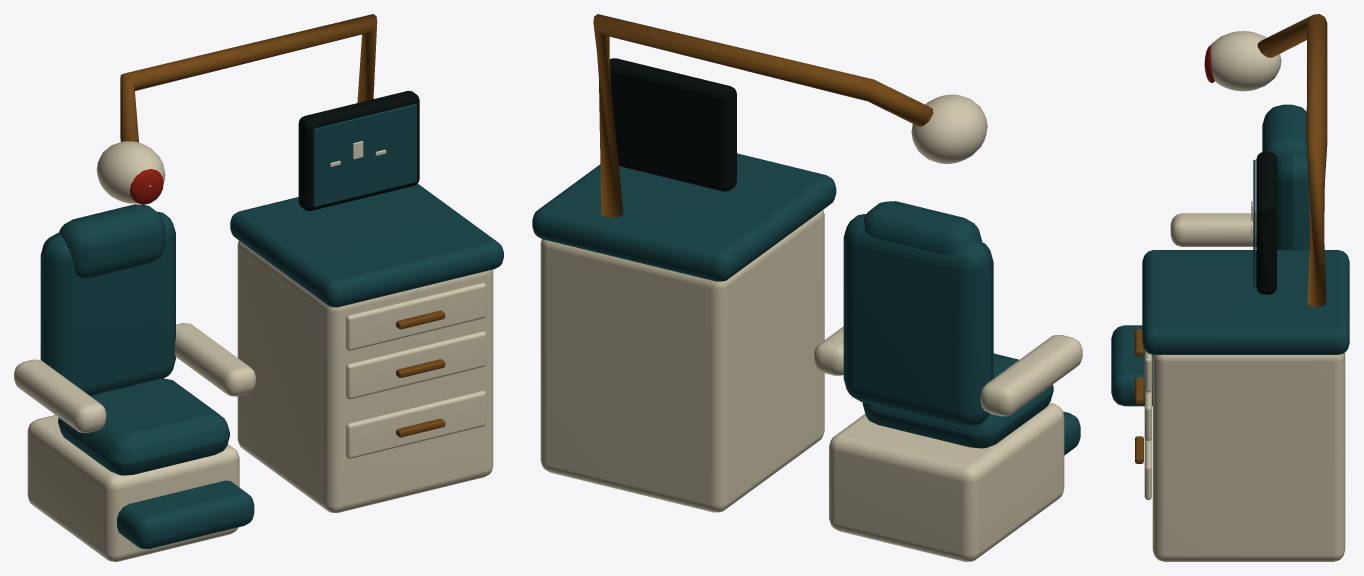
The model's file is diagnosis.glb.
The picture shows the model from 3 angles, left to right: view 1: azimuth 30°, elevation 25°; view 2: azimuth 150°, elevation 25°; view 3: azimuth 270°, elevation 25°; orthographic projection. The views are drawn at different scales.
Visible parts, largest first — view 1: Apparatus; view 2: Apparatus; view 3: Apparatus.
Part boxes in pixels (x1,y1,x2,y2): Apparatus: [14, 14, 503, 561]; Apparatus: [532, 14, 1082, 561]; Apparatus: [1111, 14, 1349, 561].
Size of the model in its own units: 1.6 by 1.53 by 0.805.
